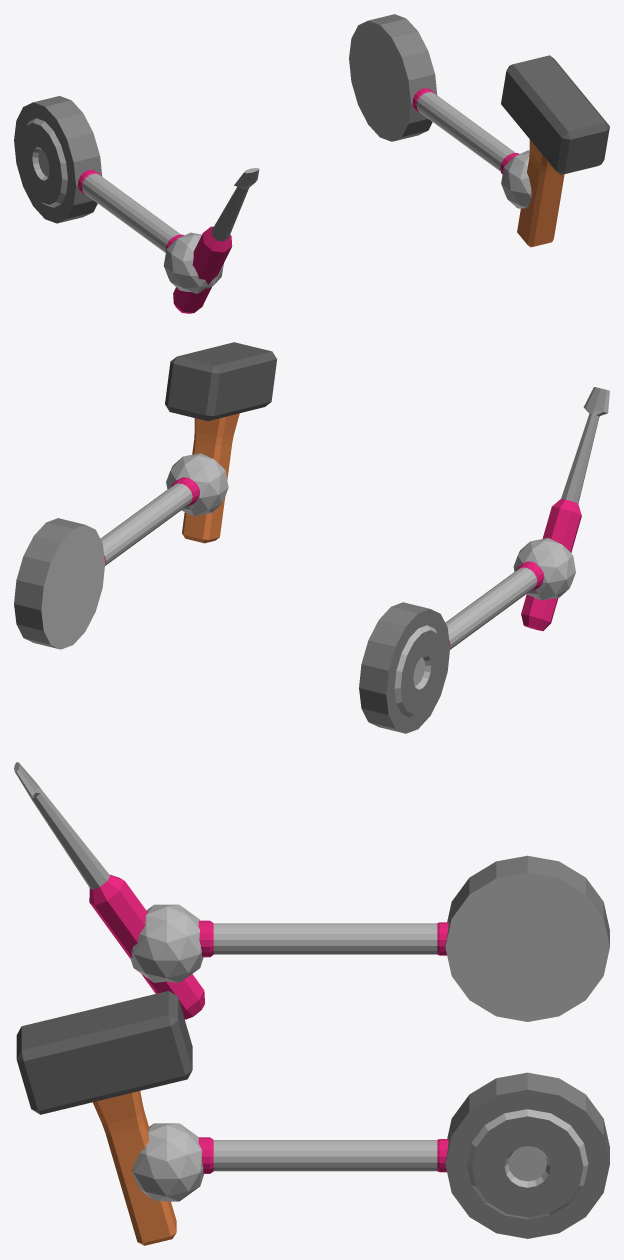
File: armsRepair.fbx
3 renders of one model, top to bottom at view 1: azimuth 30°, elevation 25°; view 2: azimuth 150°, elevation 25°; view 3: azimuth 270°, elevation 25°, orthographic. The views are drawn at different scales.
Visible parts, largest first — view 1: Arm - Repair; view 2: Arm - Repair; view 3: Arm - Repair.
Boxes of the visible parts, left/top/right/bottom form: Arm - Repair: left=14, top=14, right=609, bottom=313; Arm - Repair: left=14, top=342, right=609, bottom=733; Arm - Repair: left=14, top=762, right=609, bottom=1245.
Size of the model in its own units: 89.05 by 89.17 by 42.33.
